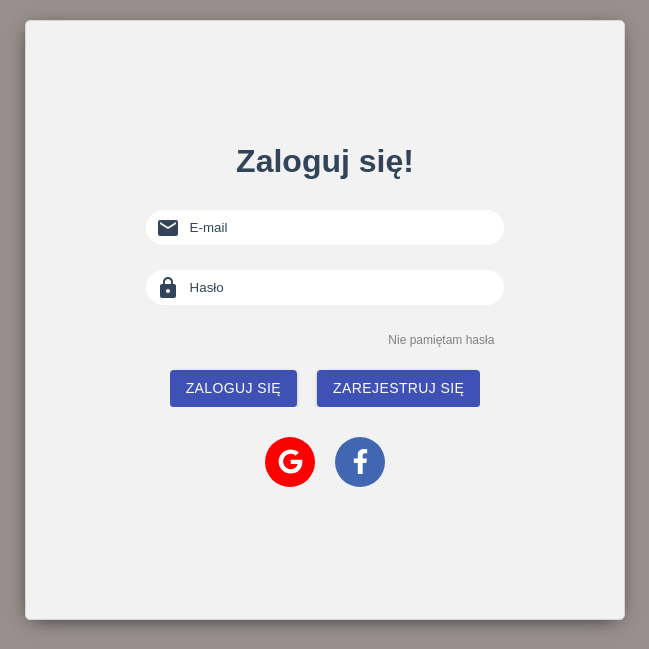
Test case: User registration into application in form › Should error for empty passwords
Click the link to "/registration": {"x": 399, "y": 383} [317,374,480,391]
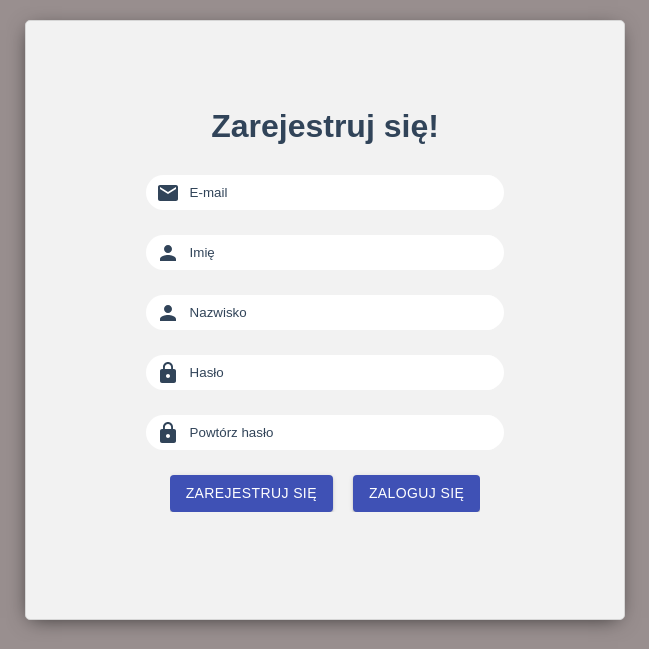
Now the heading "Zarejestruj się!" is shown, box [211,108,439,145]
In the field named "email": {"x": 343, "y": 193} [190,175,495,210], type "test@gmail.com"
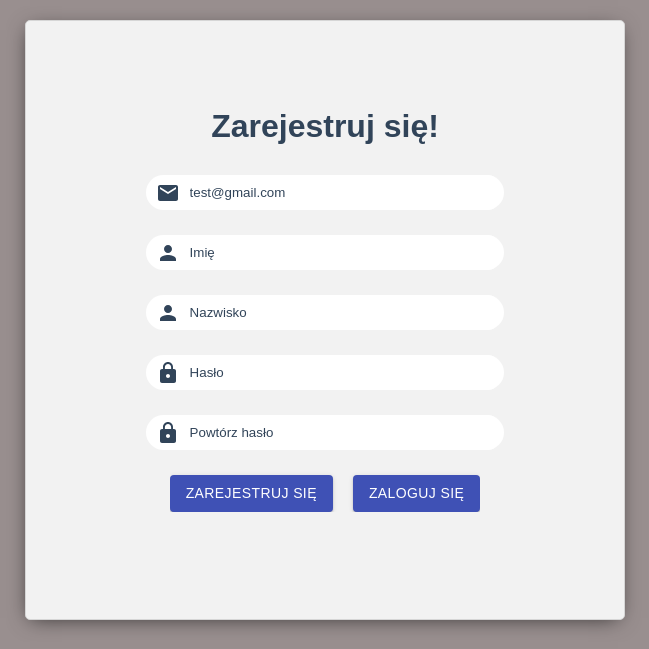
In the field named "firstName": {"x": 343, "y": 253} [190,235,495,270], type "Paula"
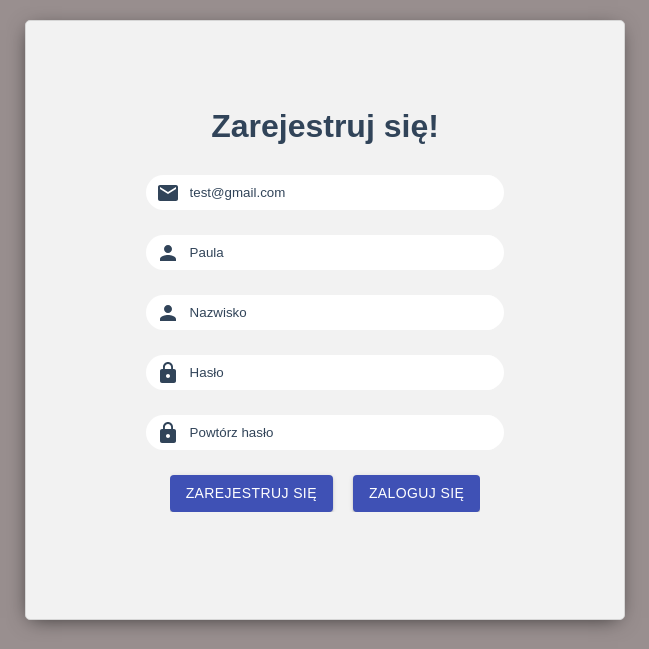
In the field named "lastName": {"x": 343, "y": 313} [190,295,495,330], type "test"
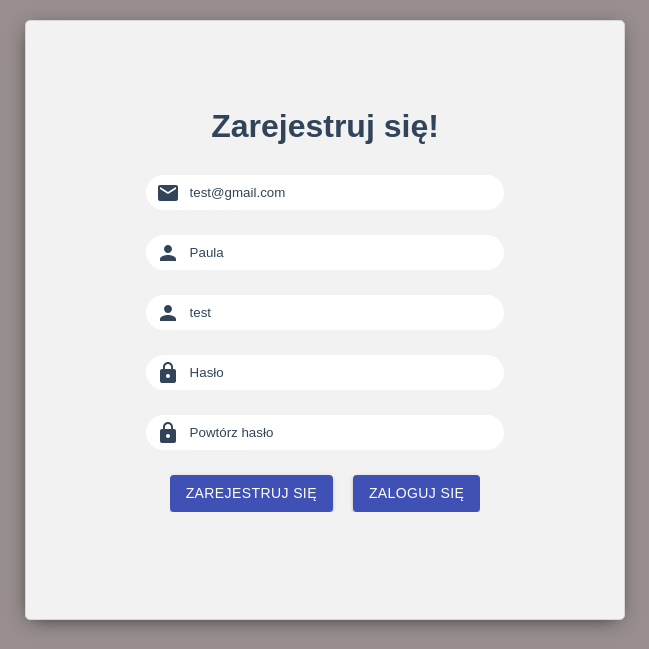
Click the submit button: {"x": 252, "y": 494} [170,475,333,512]
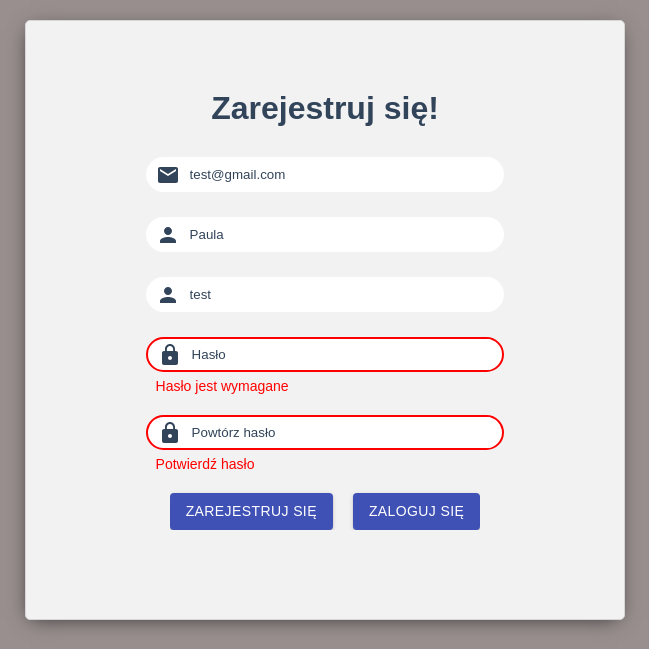
Now the text "Hasło jest wymagane" is shown, box [146,378,289,394]
Now the text "Potwierdź hasło" is shown, box [146,456,254,472]
